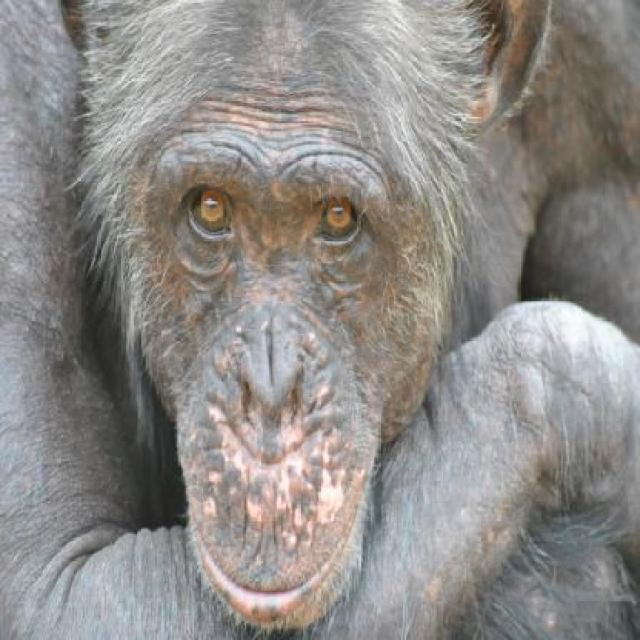Monkey: (29, 6, 638, 639)
